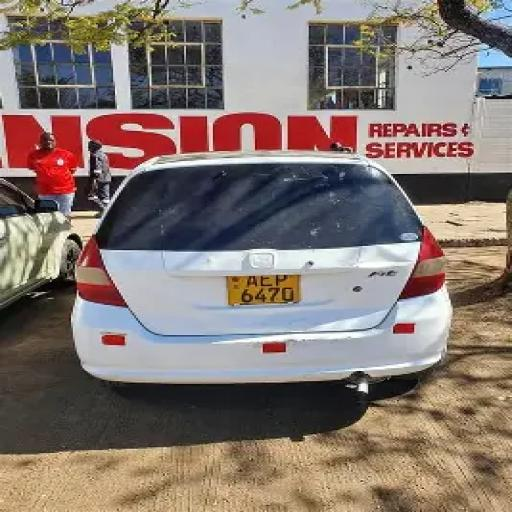number-plates: (228, 272, 300, 304)
